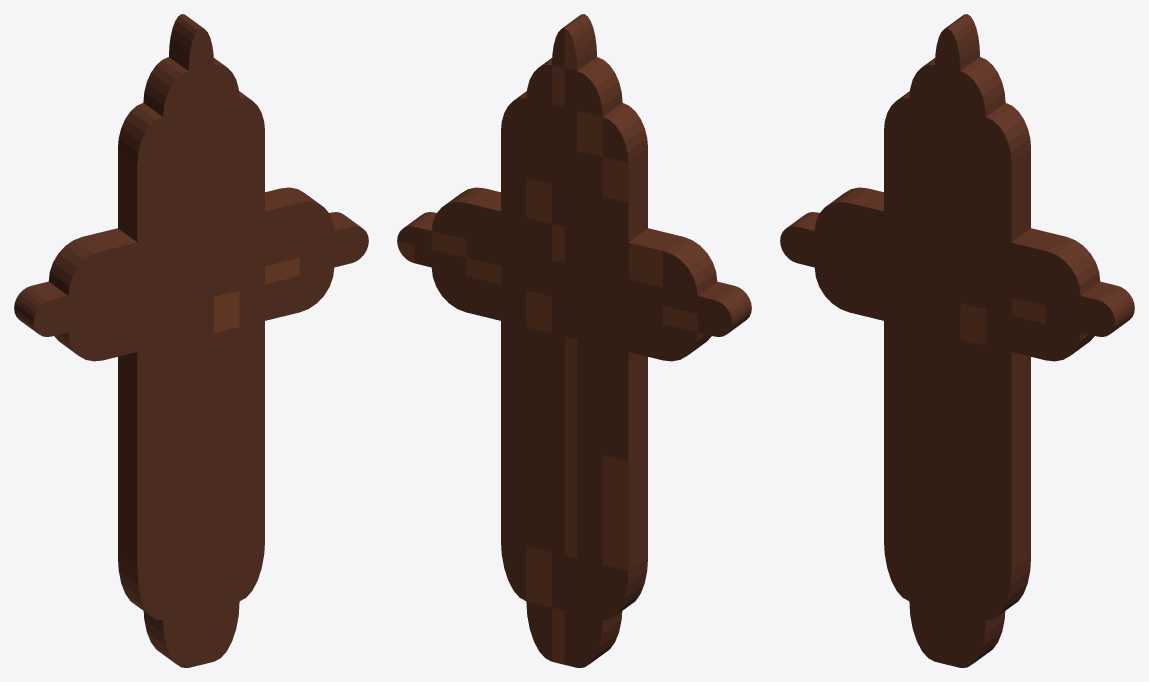
The model's file is cruces.gltf.
The picture shows the model from 3 angles, left to right: view 1: azimuth 30°, elevation 25°; view 2: azimuth 150°, elevation 25°; view 3: azimuth 330°, elevation 25°; orthographic projection.
Visible parts, largest first — view 1: Cube; view 2: Cube; view 3: Cube.
Boxes of the visible parts, bbox=[...] form: Cube: bbox=[14, 14, 368, 667]; Cube: bbox=[397, 14, 751, 667]; Cube: bbox=[780, 14, 1134, 667].
Bounding box in the file's own units: 0.8787 × 1.59 × 0.0892.
